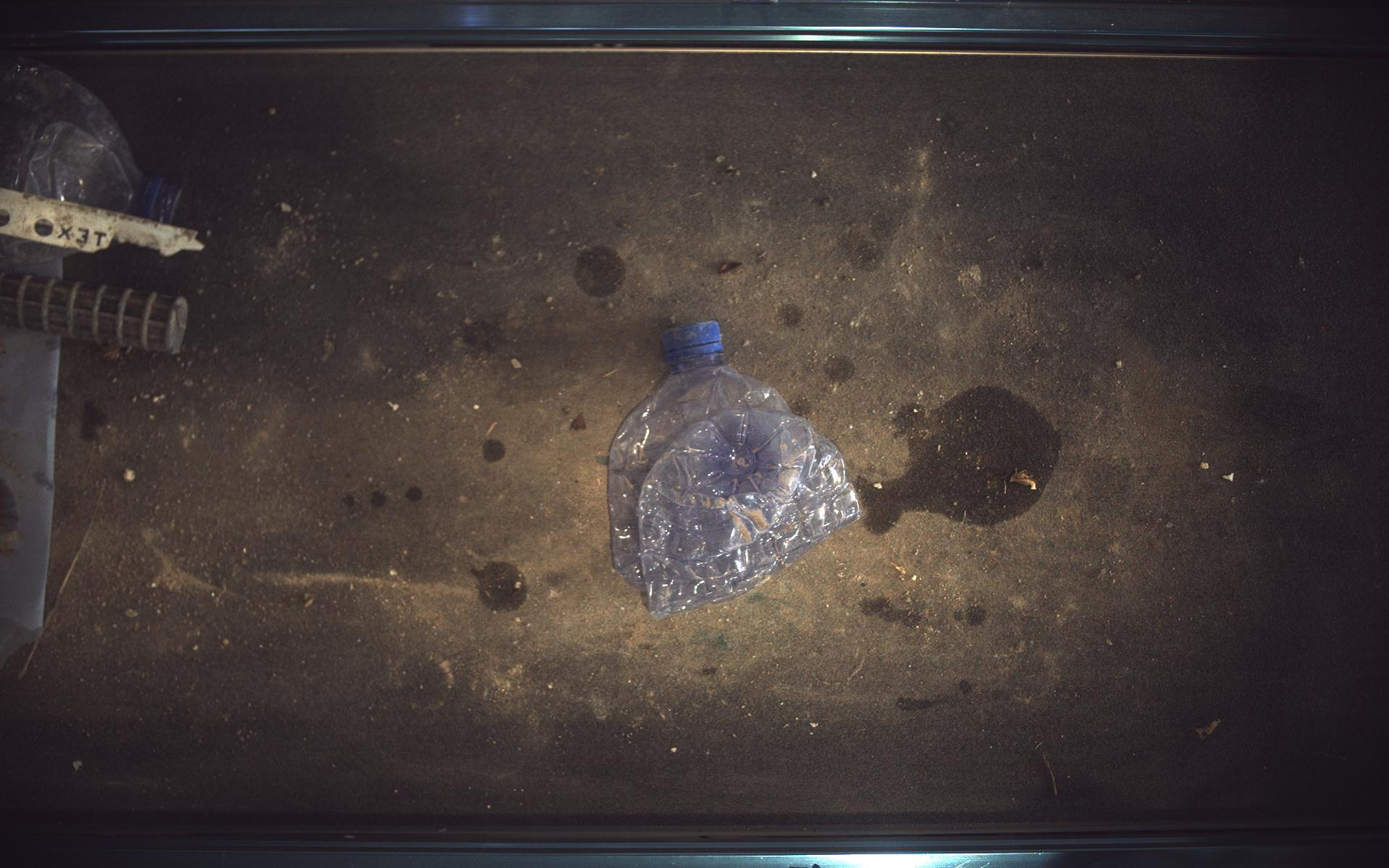general_w: (608, 321, 862, 618), (1, 55, 179, 221), (1, 235, 64, 275)
plastic: (1, 273, 187, 354), (1, 188, 203, 255)
